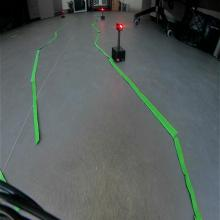red: (115, 22, 124, 31)
